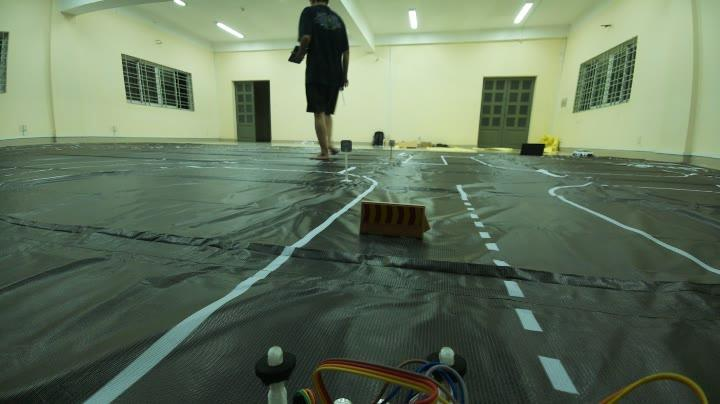roadblock: (352, 192, 444, 256)
